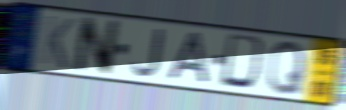A: (165, 30, 211, 86)
D: (218, 31, 270, 94)
J: (131, 28, 165, 78)
K: (38, 13, 76, 72)
N: (72, 15, 122, 77)
Q: (266, 39, 309, 97)
